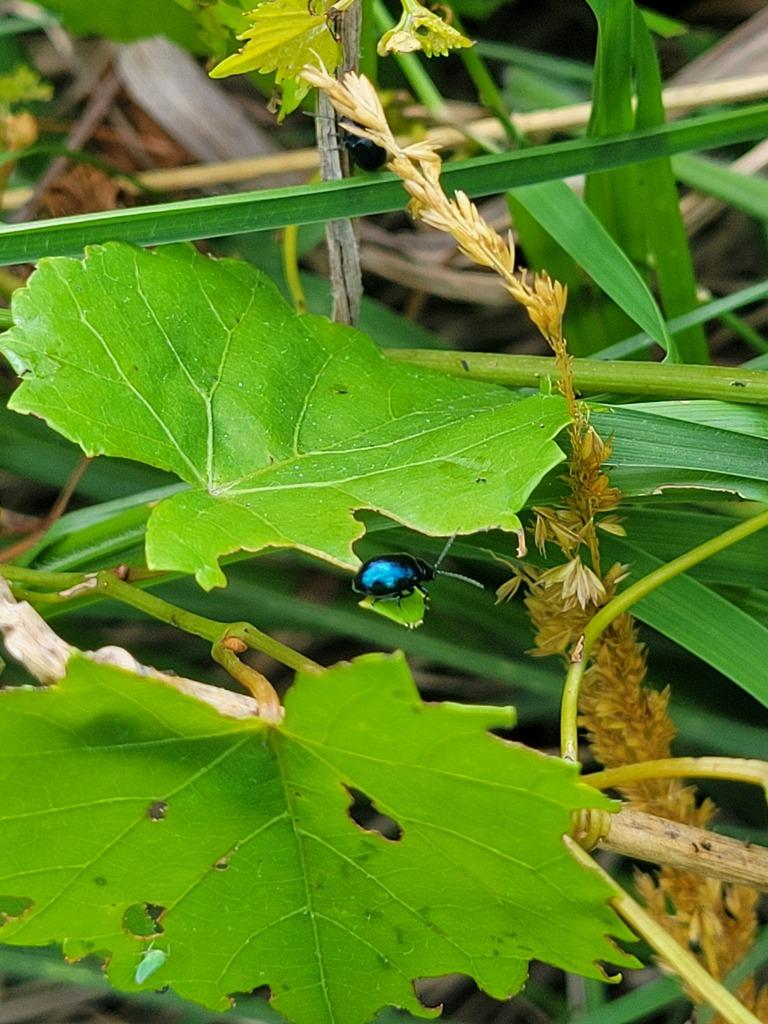flea_beetle: (326, 524, 483, 616)
